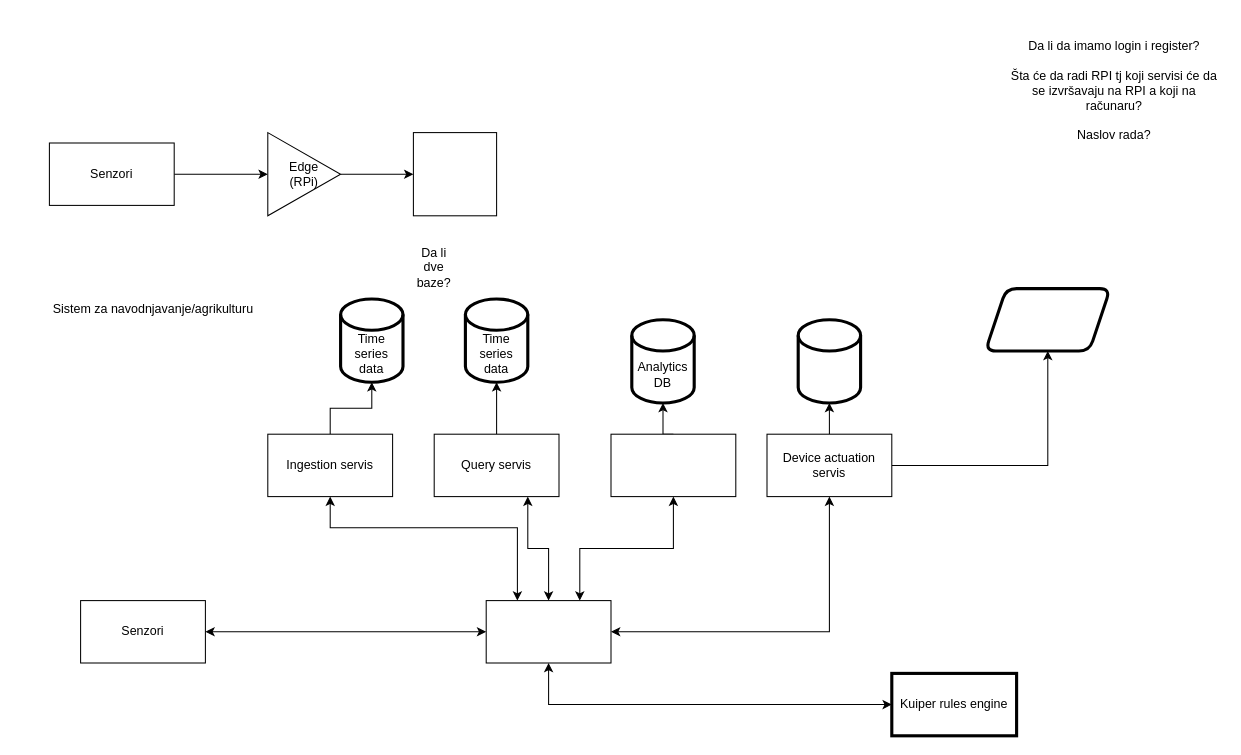
This 1241x755 diagram has some shape labels left out. Here are the shapes that lost their labels. From the top down, the centre of each, then its label:
At point 454,174: "Cloud(PC)".
At point 1047,319: "RPI actuation".
At point 829,361: "Actuation DB".
At point 673,465: "Alert/Analytics servis".
At point 548,631: "MQTT".
